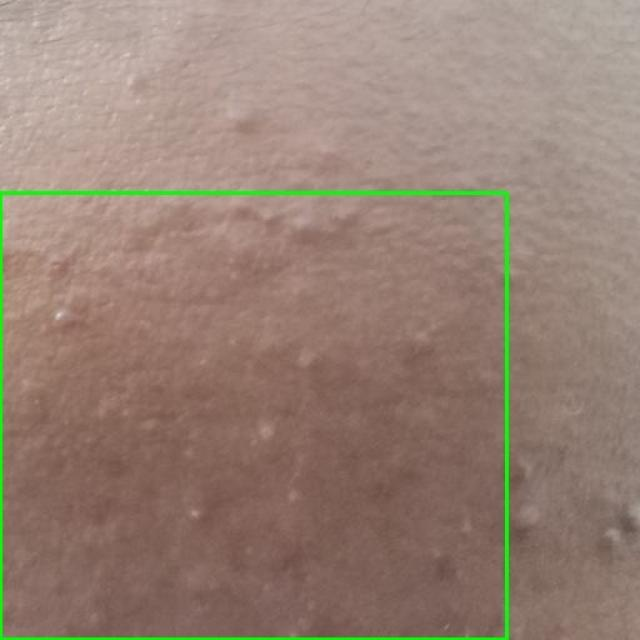Eczema: (0, 192, 506, 639)
